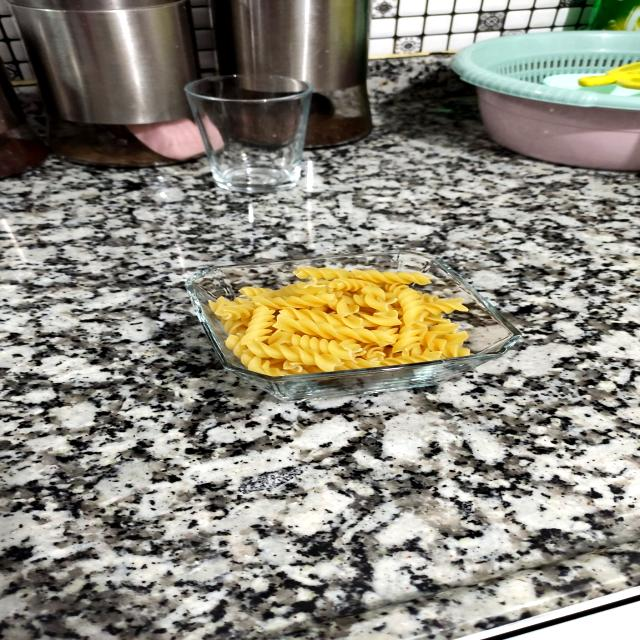fusilli pasta: (195, 247, 512, 393)
